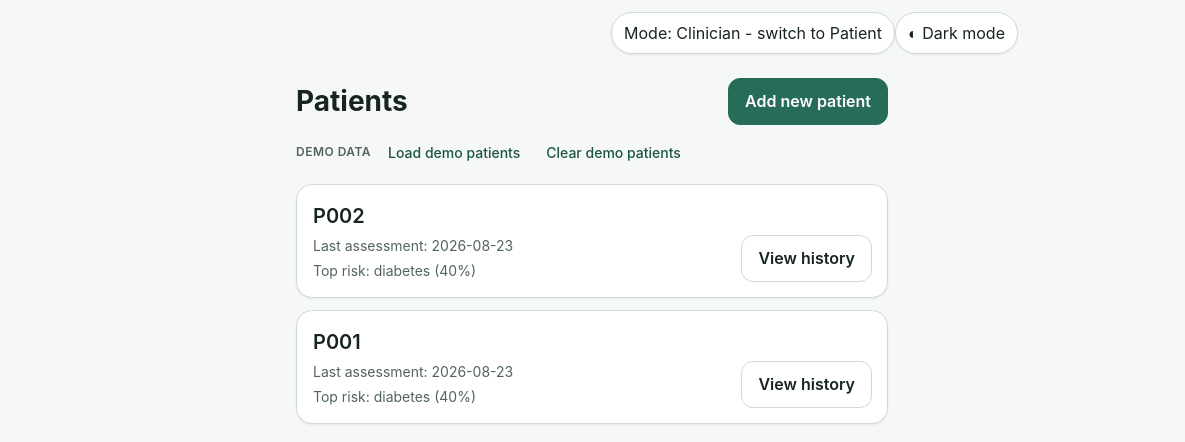
Test case: App clinician patient list › opens an isolated patient history directly and returns to the clinician list
Click the 2nd button with class "clinician-patient-history". click: [807, 384]
box: [742,361,872,408]
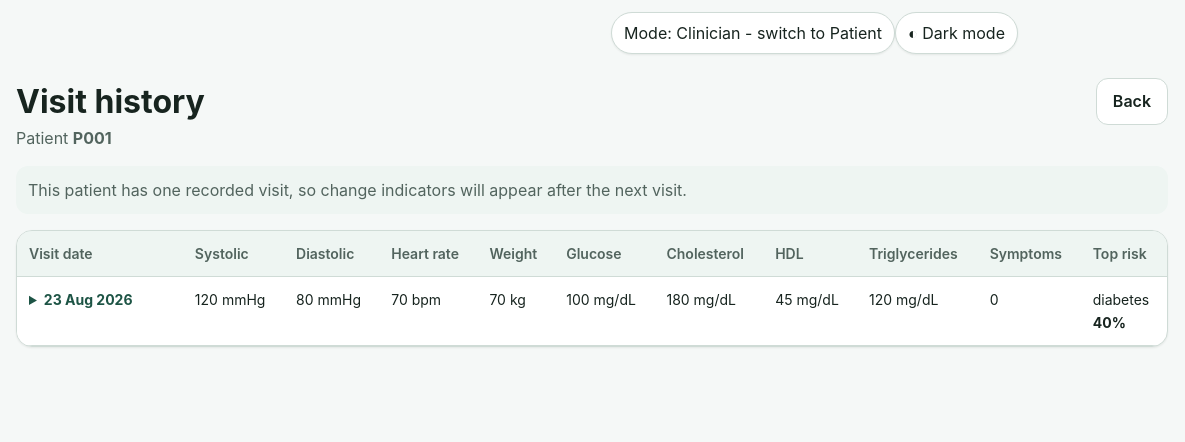
Check: the text "Visit history" is shown, box [16,78,205,126]
Check: the text "Patient P001" is shown, box [16,128,112,148]
Click the button "Back". click: [1132, 101]
box: [1096,78,1168,125]
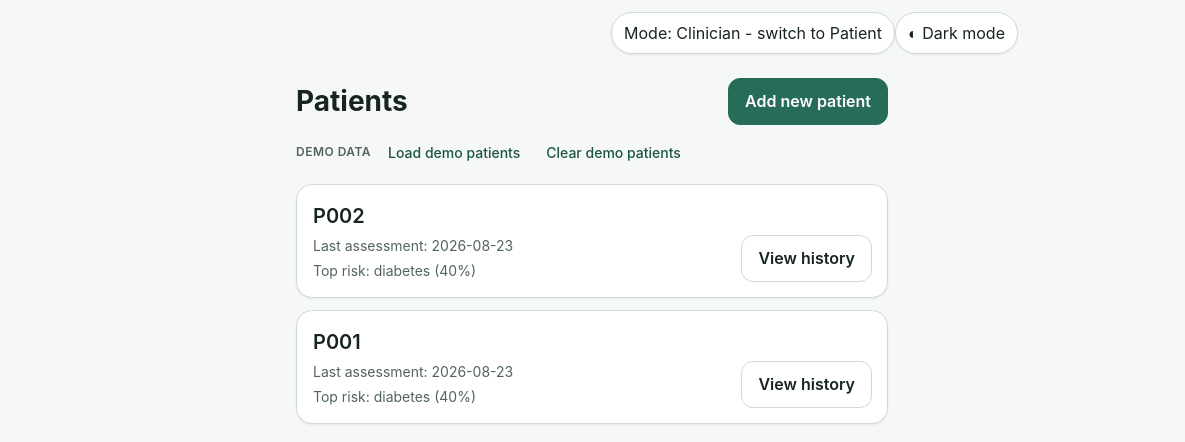
Check: the text "Patients" is shown, box [296,80,408,122]
Check: the text "P002" is shown, box [313,201,365,231]
